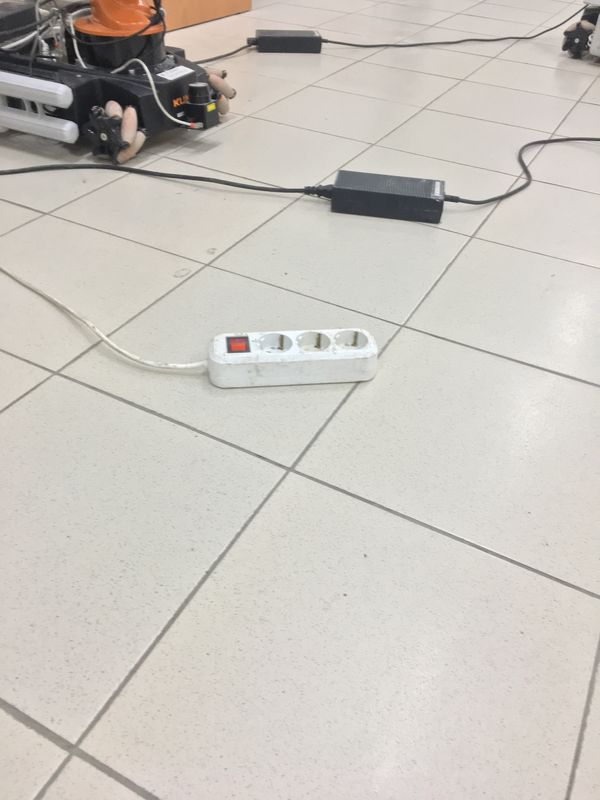socket: (205, 322, 381, 392)
